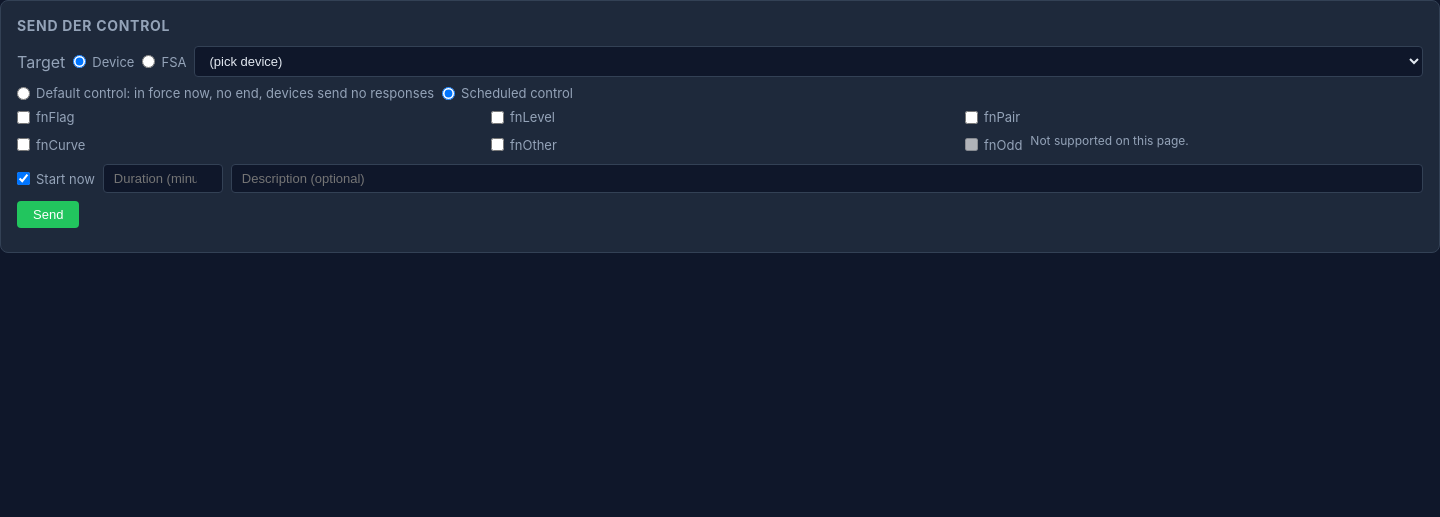
Test: DerControl: a scheduled control with several functions › refuses a missing duration
Select "167261211635" in the dropdown with id "controlDevice" at (809, 62), box [194,46,1423,77]
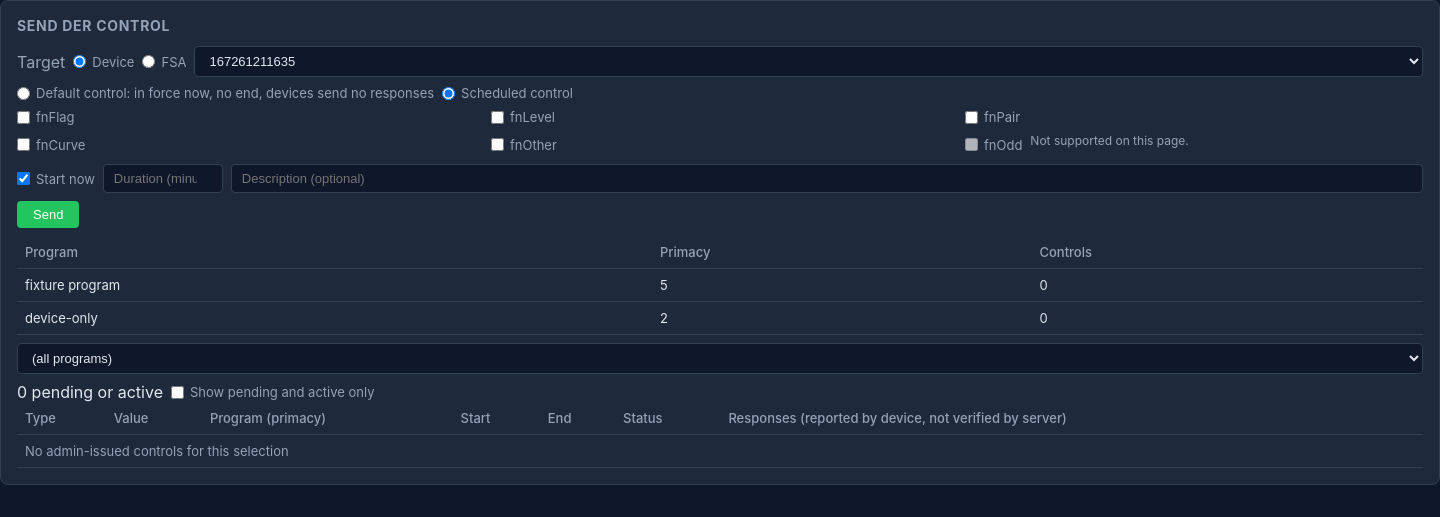
Expected: the row with test id "der-control-program-row" showing "fixture program 5 0" is shown, [17,268,1423,302]
Click the checkbox with test id "control-fn-fnFlag" at (24, 117), box [17,110,30,124]
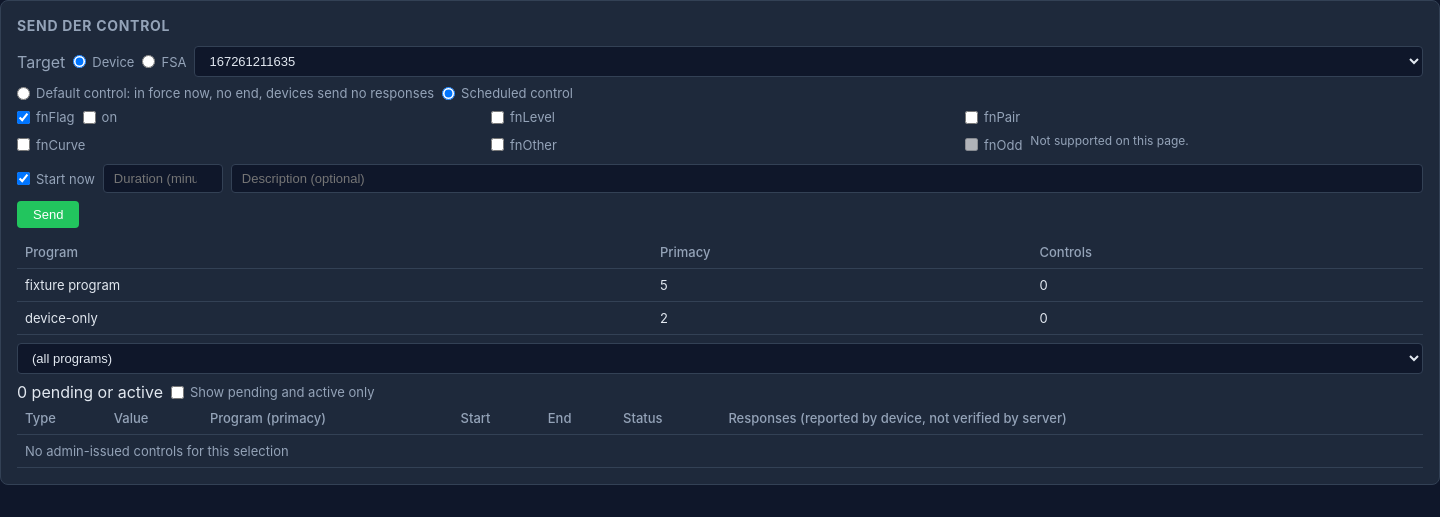
Click the button "Send" at (48, 214), box [17,201,79,228]
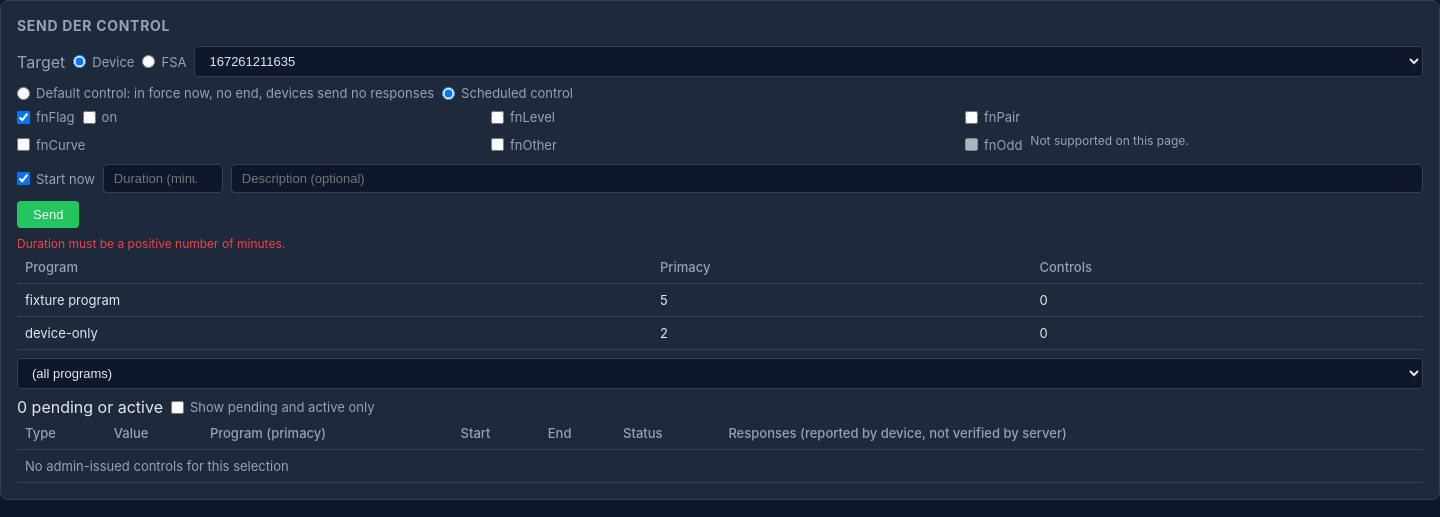
Expected: the text with id "controlResult" reads "Duration must be a positive number of minutes.", [17,236,285,251]
